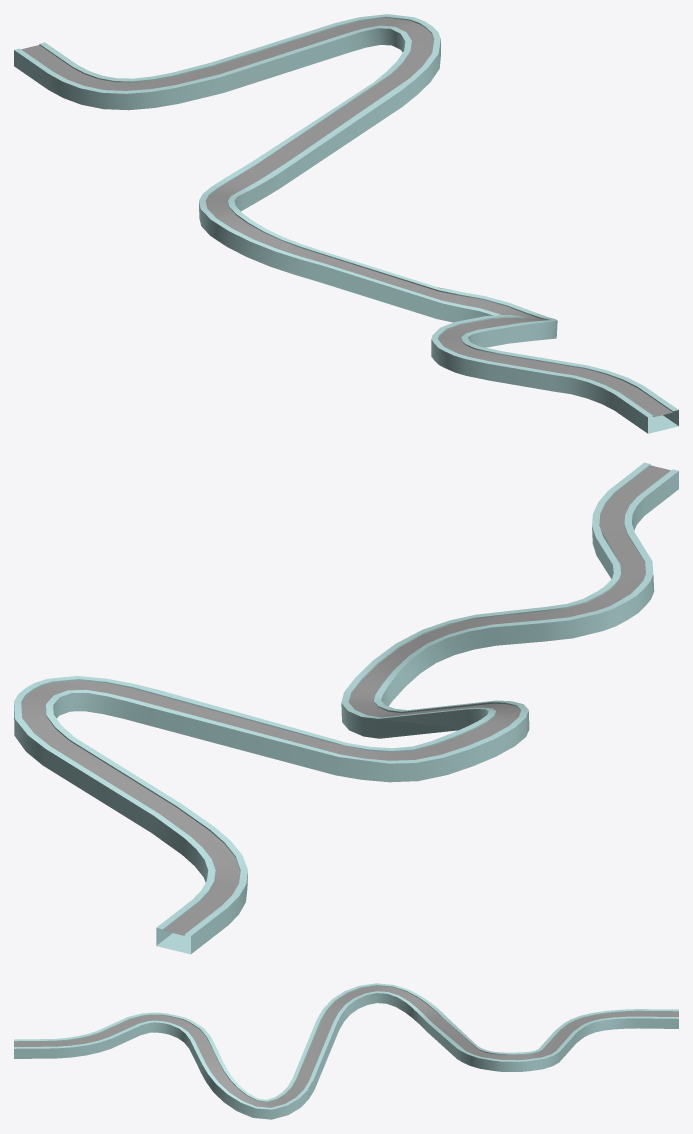
File: serpantin.fbx
The picture shows the model from 3 angles, top to bottom: view 1: azimuth 30°, elevation 25°; view 2: azimuth 150°, elevation 25°; view 3: azimuth 270°, elevation 25°; orthographic projection. The views are drawn at different scales.
Parts seen in each view (by area): view 1: serpantin; view 2: serpantin; view 3: serpantin.
Part boxes in pixels (x1=…): serpantin: x1=14, y1=14, x2=678, y2=433; serpantin: x1=14, y1=462, x2=678, y2=954; serpantin: x1=14, y1=983, x2=678, y2=1119.
Bounding box in the file's own units: 2165 × 870 × 6090.
